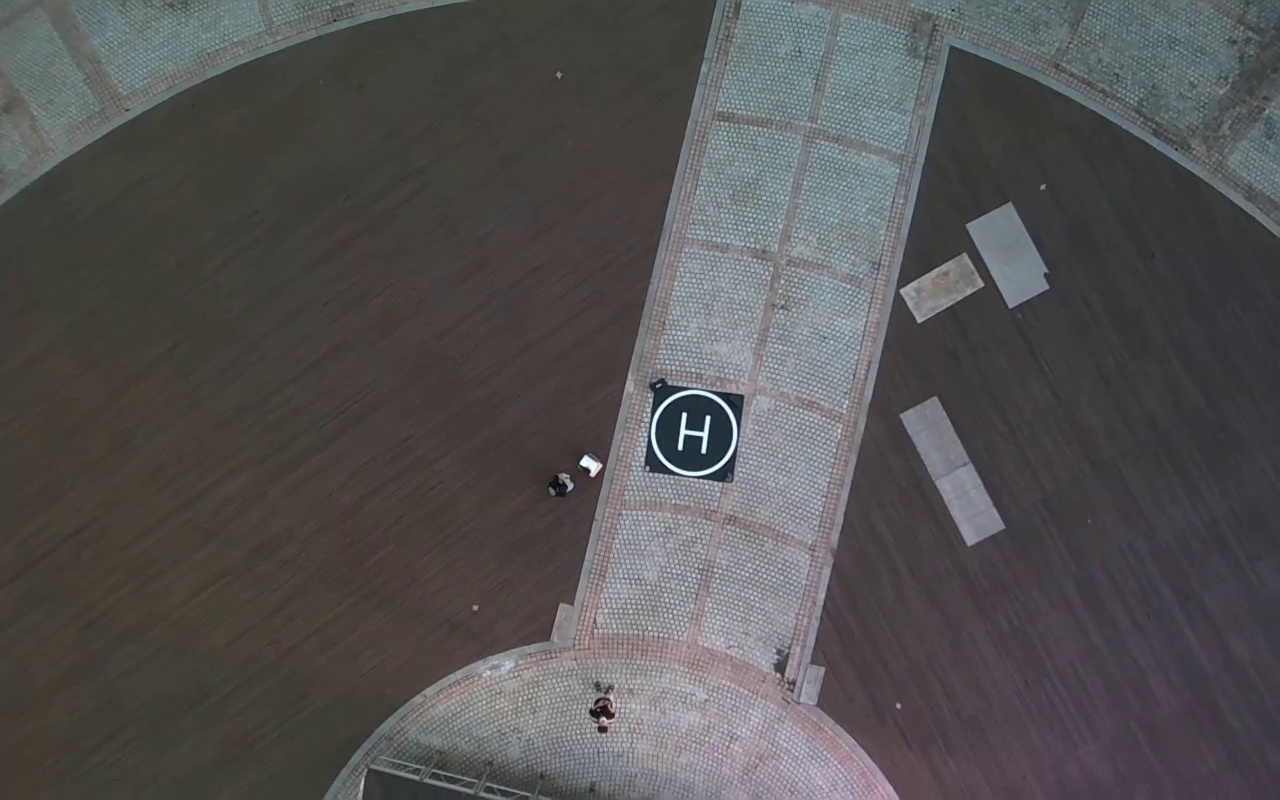H: (676, 410, 711, 454)
heliport: (650, 390, 737, 477)
